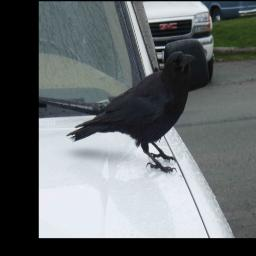Crow: (68, 50, 195, 175)
